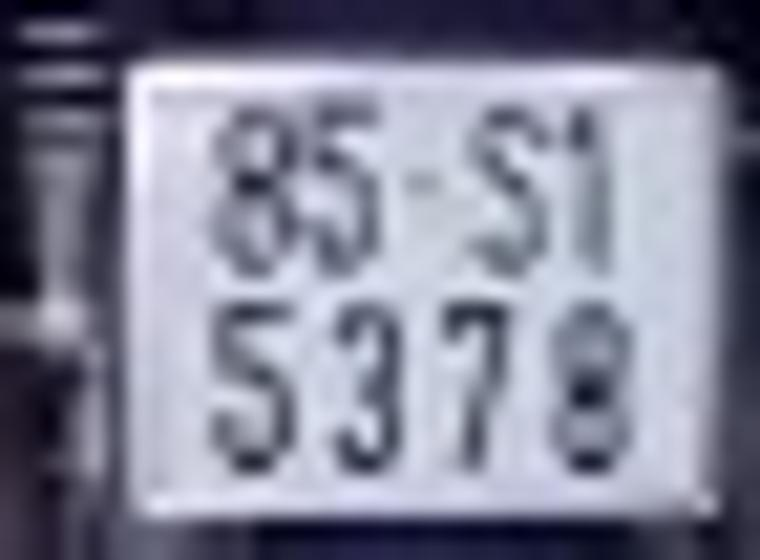1: (576, 97, 626, 288)
3: (329, 294, 412, 475)
5: (209, 295, 307, 473), (309, 99, 392, 296)
7: (440, 287, 519, 484)
8: (551, 296, 639, 483), (209, 102, 296, 272), (399, 154, 451, 208)
S: (466, 106, 558, 280)
